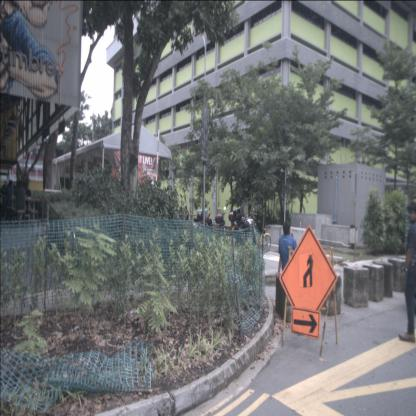human-pedestrian-adult: (398, 201, 416, 343), (275, 219, 300, 296), (14, 181, 27, 227), (7, 179, 16, 217), (1, 179, 10, 210), (183, 206, 189, 228)
vehicle-bicycle: (250, 224, 272, 252)
vehicle-motorcycle: (233, 206, 256, 246), (197, 206, 213, 242), (215, 206, 227, 244)
